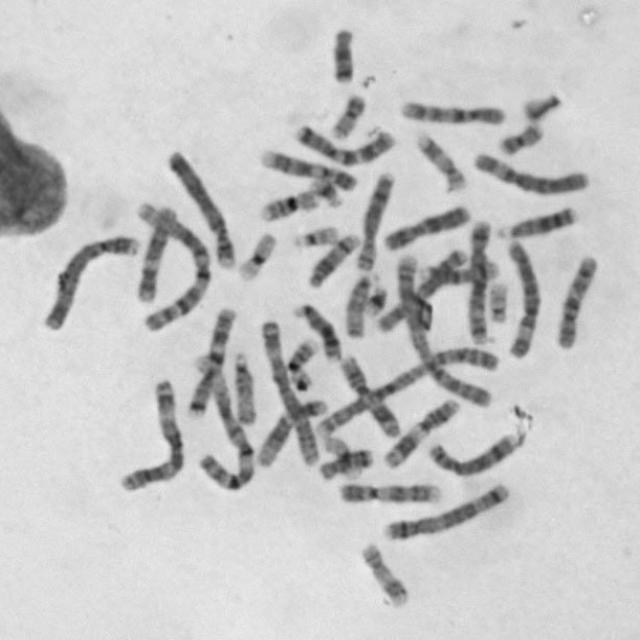A1: (131, 200, 213, 334), (186, 350, 258, 492)
A2: (312, 341, 503, 442), (399, 245, 497, 411)
A3: (256, 314, 320, 468), (116, 375, 186, 492)
B4: (39, 229, 142, 333), (164, 145, 238, 270)
B5: (378, 480, 511, 543), (463, 216, 493, 345)
C10: (552, 251, 601, 351), (395, 95, 507, 128)
C11: (379, 396, 463, 470), (335, 353, 401, 439)
C12: (253, 394, 329, 470), (132, 201, 177, 304)
C6: (468, 147, 592, 197), (500, 238, 542, 360)
C7: (183, 302, 239, 419), (291, 120, 397, 168)
C8: (424, 426, 525, 478), (352, 168, 397, 272)
C9: (258, 146, 360, 194), (334, 478, 445, 508)
D13: (289, 299, 343, 364), (494, 202, 580, 242)
D14: (303, 229, 361, 290), (415, 260, 505, 285)
D15: (340, 269, 380, 340), (229, 348, 258, 426)
E16: (256, 187, 320, 223), (283, 335, 319, 390)
E17: (357, 540, 411, 610), (413, 129, 467, 193)
E18: (316, 446, 376, 482), (328, 25, 357, 85)
F19: (234, 229, 278, 283), (318, 433, 366, 481)
F20: (327, 91, 369, 142), (495, 120, 547, 156)
G21: (306, 172, 344, 210), (362, 282, 388, 318)
G22: (288, 222, 340, 248), (485, 280, 512, 324)
X: (373, 245, 471, 337), (380, 201, 472, 253)
Y: (518, 90, 564, 122)
